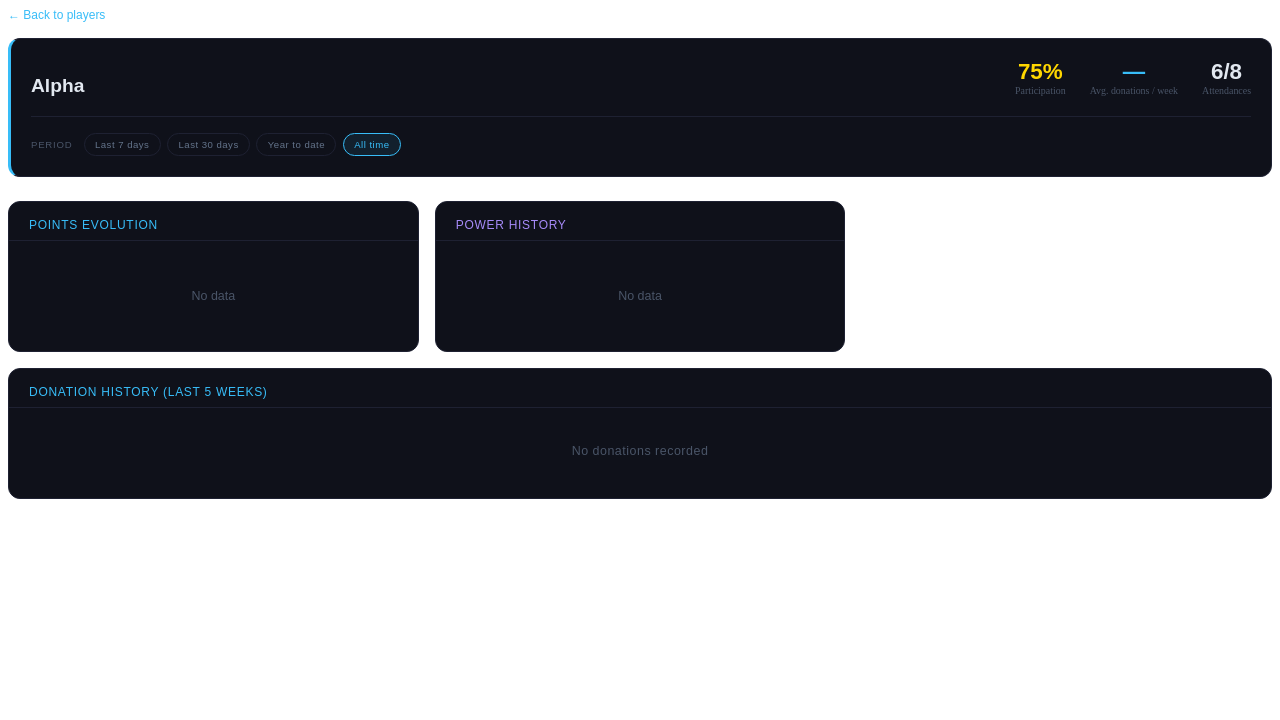
Test: PlayerDetailPage — period filter › shows "—" when the alliance ran no events in the window
Expected: the element with test id "participation-card" is shown, 1015,59 -> 1066,96
Click the button "Last 30 days" at (209, 144), box 167,133 -> 250,156
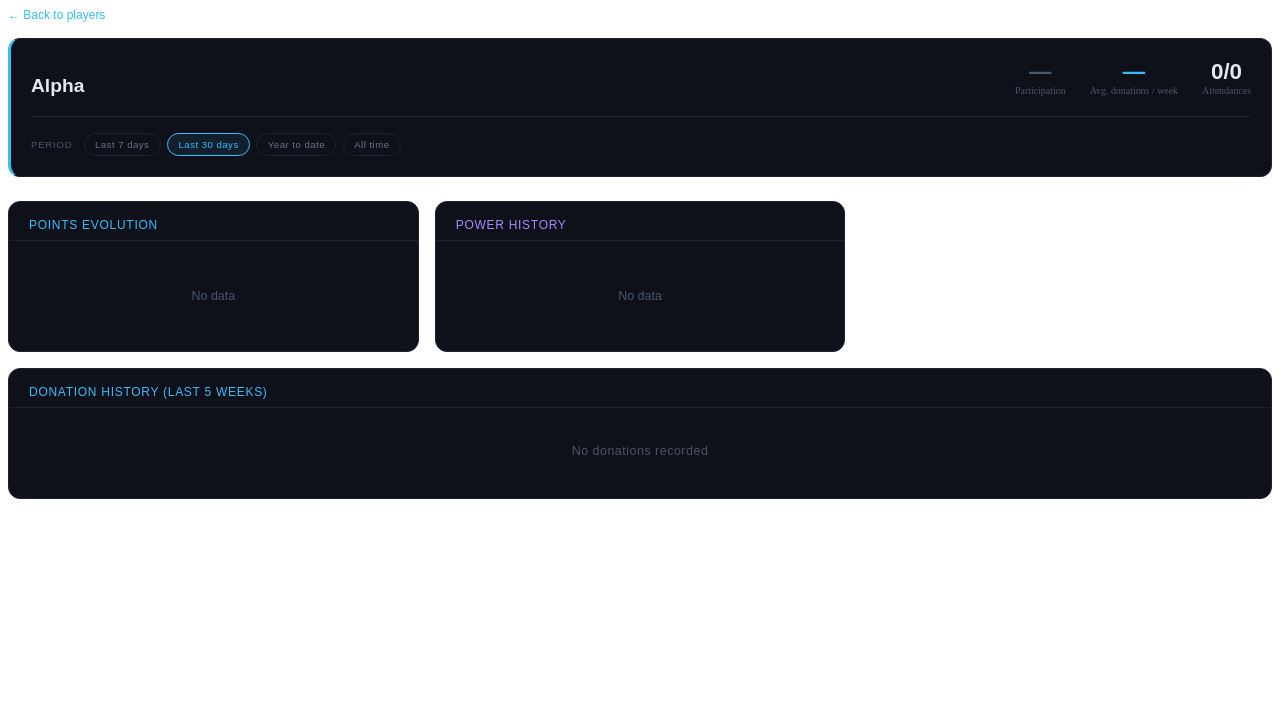
Now the element with test id "attendances-card" shows "0/0", box 1211,59 -> 1242,84
Now the element with test id "participation-card" shows "—", box 1029,59 -> 1052,84
